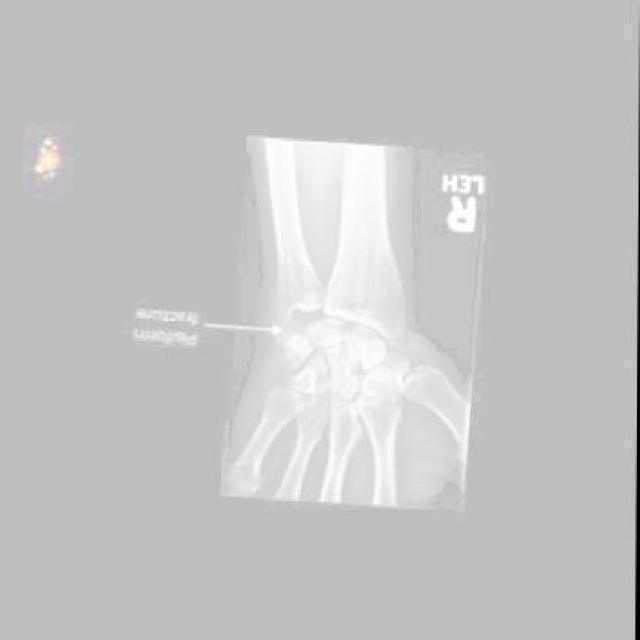bone: (273, 317, 310, 353)
